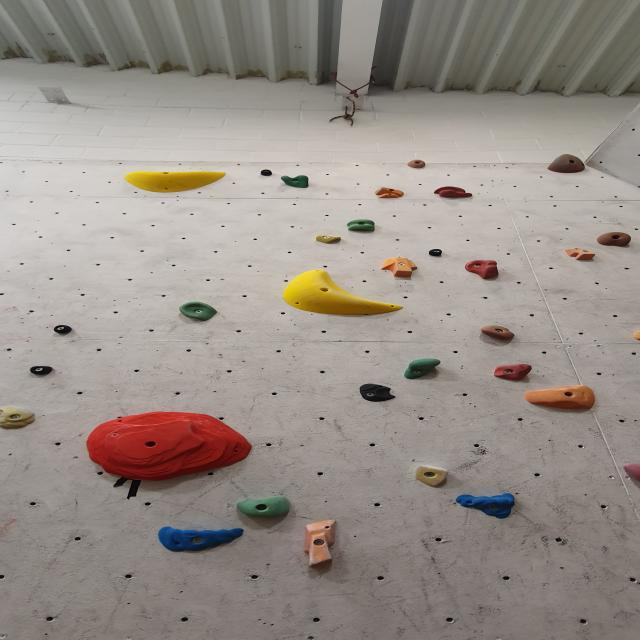Crimp: (81, 411, 256, 481), (154, 524, 247, 552), (454, 493, 518, 518), (1, 407, 40, 431), (413, 465, 450, 487), (434, 186, 476, 199), (372, 187, 406, 198), (631, 328, 640, 341)
Jug: (237, 498, 295, 520), (402, 358, 445, 379), (176, 302, 219, 323), (462, 260, 503, 281), (545, 156, 587, 176), (492, 365, 535, 383), (479, 324, 518, 342), (592, 233, 635, 248), (345, 218, 377, 233), (278, 175, 311, 189), (402, 158, 431, 171)
Pinch: (296, 518, 346, 567), (376, 255, 422, 279), (562, 248, 604, 261), (30, 364, 60, 378), (312, 236, 344, 246), (426, 247, 446, 260), (53, 325, 75, 334), (258, 167, 272, 177)
Sloper: (282, 270, 408, 318), (124, 171, 229, 194), (521, 386, 598, 412), (357, 384, 401, 402)
